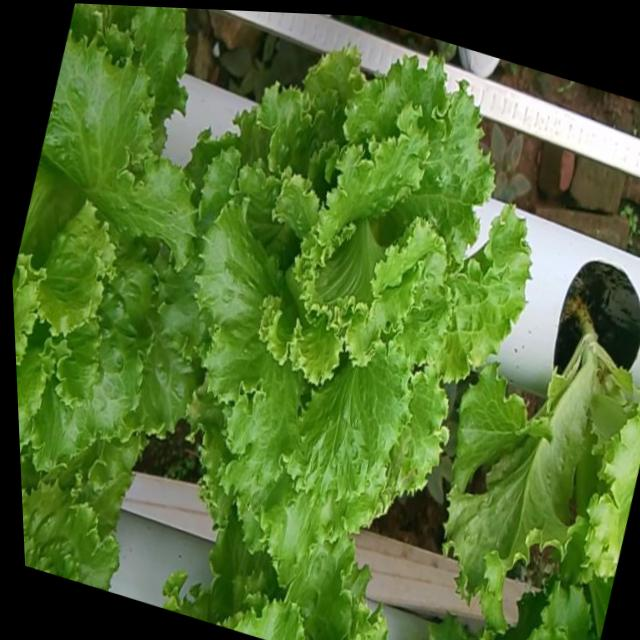Mature: (189, 52, 535, 566), (12, 26, 205, 469)
